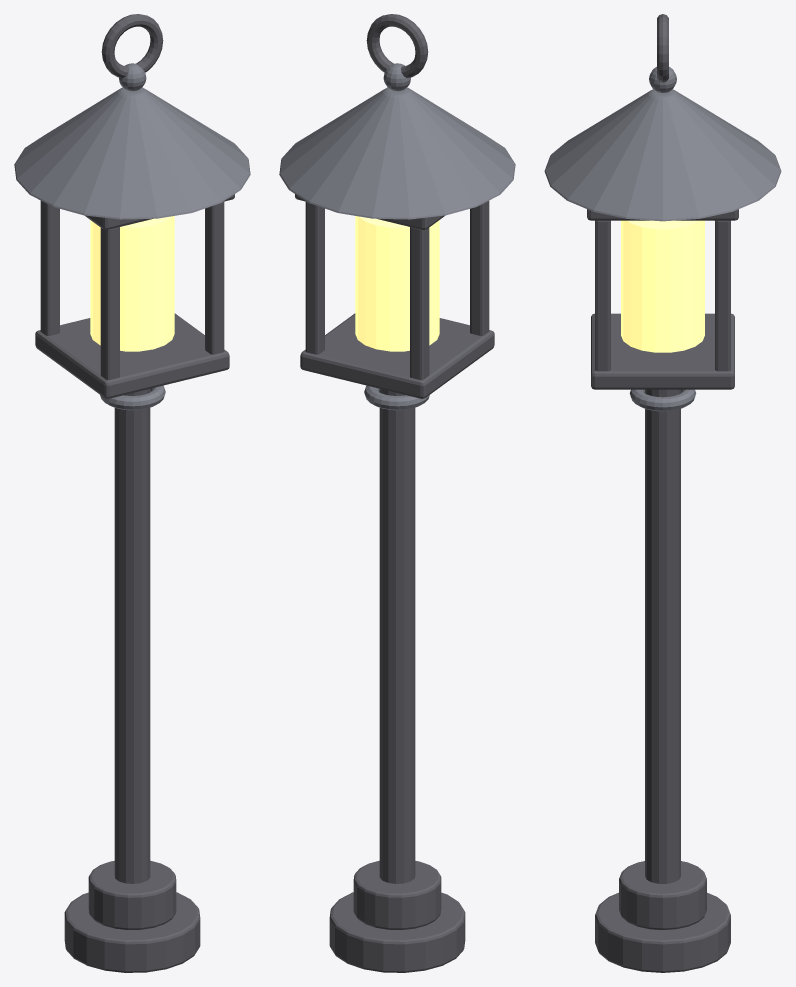
Rendered from master.glb.
3 views of the same model, side by side, from view 1: azimuth 30°, elevation 25°; view 2: azimuth 150°, elevation 25°; view 3: azimuth 270°, elevation 25° (orthographic).
Parts seen in each view (by area): view 1: cap, post, core, lamp_bottom, base, base_step, frame_-1_-1, frame_1_-1, frame_-1_1, ring, collar, finial; view 2: cap, post, core, lamp_bottom, base, base_step, frame_-1_1, frame_1_1, frame_-1_-1, ring, collar, finial; view 3: cap, post, core, base, lamp_bottom, base_step, frame_1_-1, frame_1_1, collar, ring, lamp_top.
Boxes of the visible parts, box(x1,y1,x2,y2) form: cap: box(14, 87, 250, 219); post: box(114, 389, 150, 883); core: box(90, 216, 174, 351); lamp_bottom: box(35, 313, 229, 398); base: box(64, 892, 200, 972); base_step: box(88, 860, 176, 929); frame_-1_-1: box(100, 227, 119, 379); frame_1_-1: box(205, 201, 224, 354); frame_-1_1: box(40, 201, 59, 335); ring: box(101, 14, 163, 77); collar: box(100, 385, 165, 410); finial: box(119, 63, 146, 91); cap: box(279, 87, 515, 219); post: box(379, 389, 415, 883); core: box(355, 216, 439, 351); lamp_bottom: box(300, 313, 494, 398); base: box(329, 892, 465, 972); base_step: box(353, 860, 441, 929); frame_-1_1: box(410, 227, 429, 379); frame_1_1: box(305, 201, 324, 354); frame_-1_-1: box(470, 201, 489, 335); ring: box(366, 14, 428, 77); collar: box(364, 385, 429, 410); finial: box(383, 63, 410, 91); cap: box(544, 89, 781, 221); post: box(645, 389, 680, 883); core: box(621, 220, 704, 352); base: box(595, 892, 730, 972); lamp_bottom: box(591, 313, 734, 389); base_step: box(619, 861, 706, 929); frame_1_-1: box(595, 220, 610, 371); frame_1_1: box(715, 220, 730, 371); collar: box(629, 389, 696, 411); ring: box(657, 14, 668, 82); lamp_top: box(587, 209, 738, 220).
Size of the model in its own units: 0.5916 by 2.56 by 0.5916.
